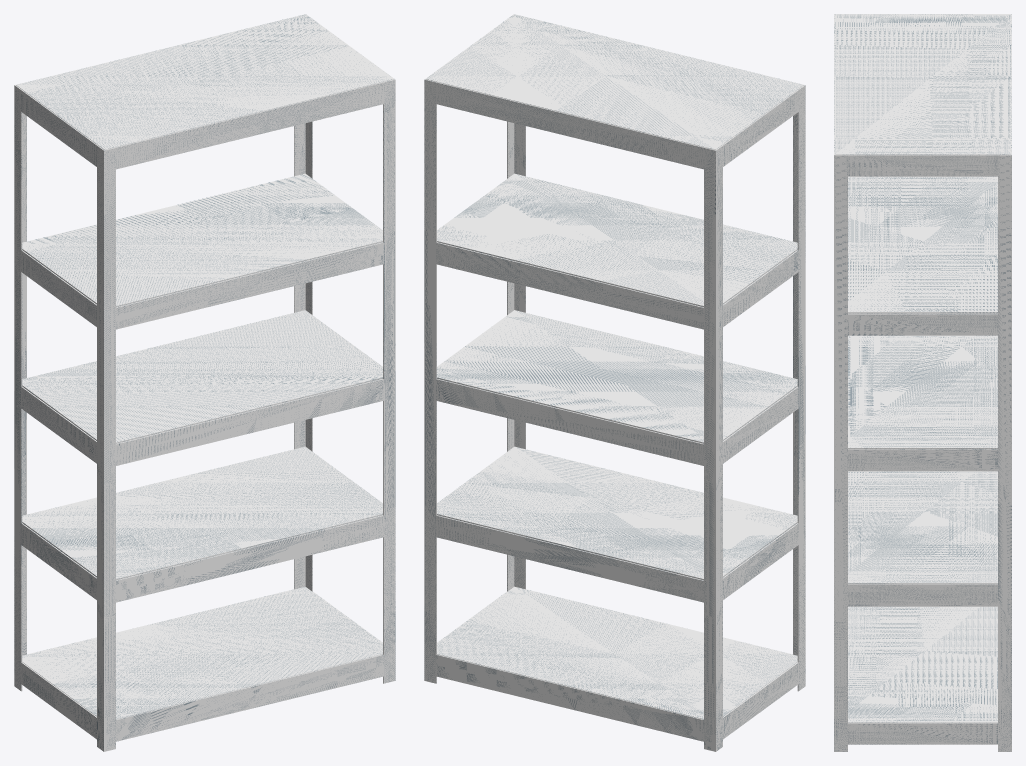
Rendered from metalshelf.dae.
3 renders of one model, left to right at view 1: azimuth 30°, elevation 25°; view 2: azimuth 150°, elevation 25°; view 3: azimuth 270°, elevation 25°, orthographic.
Visible parts, largest first — view 1: group_2, group_14, group_13, group_16, group_0, group_12, group_8 (×3), group_1, group_11 (×3); view 2: group_2, group_14, group_13, group_16, group_0, group_12, group_7 (×3), group_11 (×3); view 3: group_14, group_2, group_16, group_12, group_0, group_13, group_10 (×3), group_1.
Part boxes in pixels (x1=…): group_2: x1=14, y1=14, x2=395, y2=751; group_14: x1=16, y1=14, x2=393, y2=149; group_13: x1=22, y1=446, x2=382, y2=580; group_16: x1=22, y1=173, x2=382, y2=307; group_0: x1=22, y1=310, x2=382, y2=443; group_12: x1=22, y1=586, x2=382, y2=719; group_8 (×3): x1=116, y1=242, x2=383, y2=602; group_1: x1=116, y1=82, x2=383, y2=169; group_11 (×3): x1=21, y1=250, x2=96, y2=599; group_2: x1=424, y1=14, x2=805, y2=751; group_14: x1=426, y1=14, x2=803, y2=149; group_13: x1=437, y1=446, x2=797, y2=580; group_16: x1=437, y1=173, x2=797, y2=307; group_0: x1=437, y1=310, x2=797, y2=443; group_12: x1=437, y1=586, x2=797, y2=719; group_7 (×3): x1=436, y1=242, x2=703, y2=602; group_11 (×3): x1=723, y1=250, x2=798, y2=599; group_14: x1=835, y1=14, x2=1010, y2=154; group_2: x1=834, y1=14, x2=1011, y2=751; group_16: x1=848, y1=176, x2=997, y2=313; group_12: x1=848, y1=606, x2=997, y2=722; group_0: x1=848, y1=335, x2=997, y2=449; group_13: x1=848, y1=471, x2=997, y2=584; group_10 (×3): x1=848, y1=313, x2=997, y2=606; group_1: x1=848, y1=155, x2=997, y2=176.
Size of the model in its own units: 33.27 by 17.72 by 65.59.
